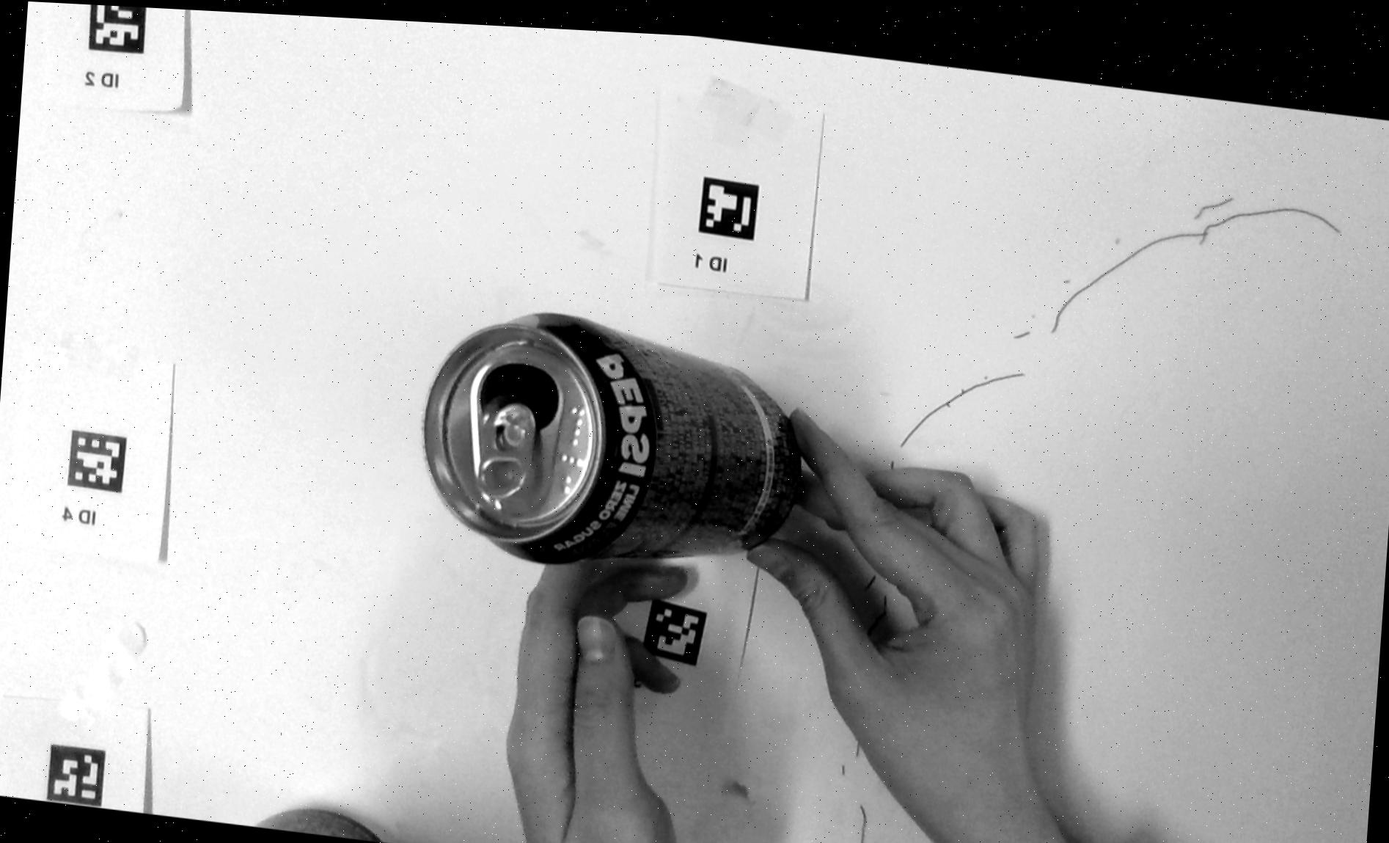can_pepsi_zero: (425, 312, 800, 562)
